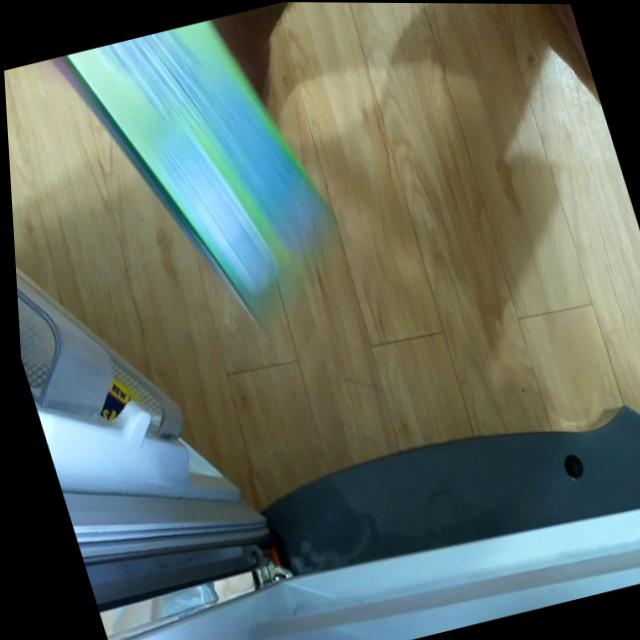milk: (60, 4, 353, 341)
